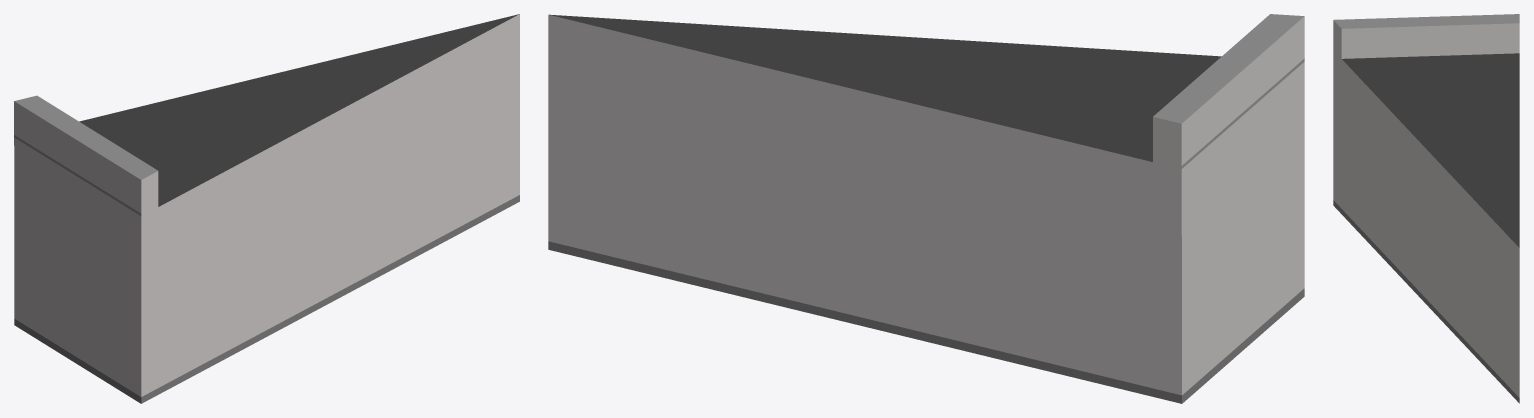
Rendered from Bakon angle Roof.fbx.
3 renders of one model, left to right at view 1: azimuth 30°, elevation 25°; view 2: azimuth 150°, elevation 25°; view 3: azimuth 270°, elevation 25°, orthographic. The views are drawn at different scales.
Visible parts, largest first — view 1: Angle section.003; view 2: Angle section.003; view 3: Angle section.003.
Boxes of the visible parts, left/top/right/bottom form: Angle section.003: left=14, top=14, right=519, bottom=403; Angle section.003: left=548, top=14, right=1304, bottom=403; Angle section.003: left=1333, top=14, right=1519, bottom=403.
Bounding box in the file's own units: 780 × 330 × 301.
4 materials, 4 textured.
